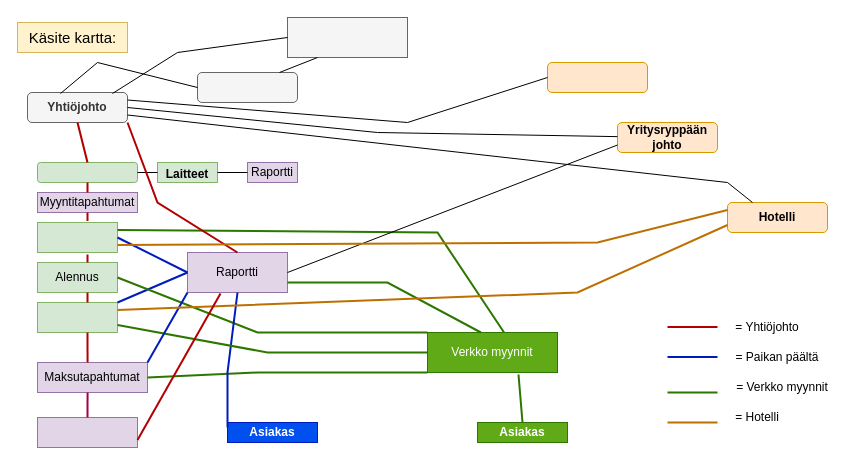
Image size: 850x465. Some labels were removed from this diagram. The shapes that lost their labels are listed below. From the top down, each one's centre as x and y in pixels, then its label:
At pixel 347 37: "Penan Laskettelukeskus".
At pixel 247 87: "Talousosasto".
At pixel 597 77: "Konserni talous".
At pixel 87 172: "Käyttäjät".
At pixel 77 237: "Tuotteet".
At pixel 77 317: "Liput".
At pixel 87 432: "Päivä kohtainen myynti".
